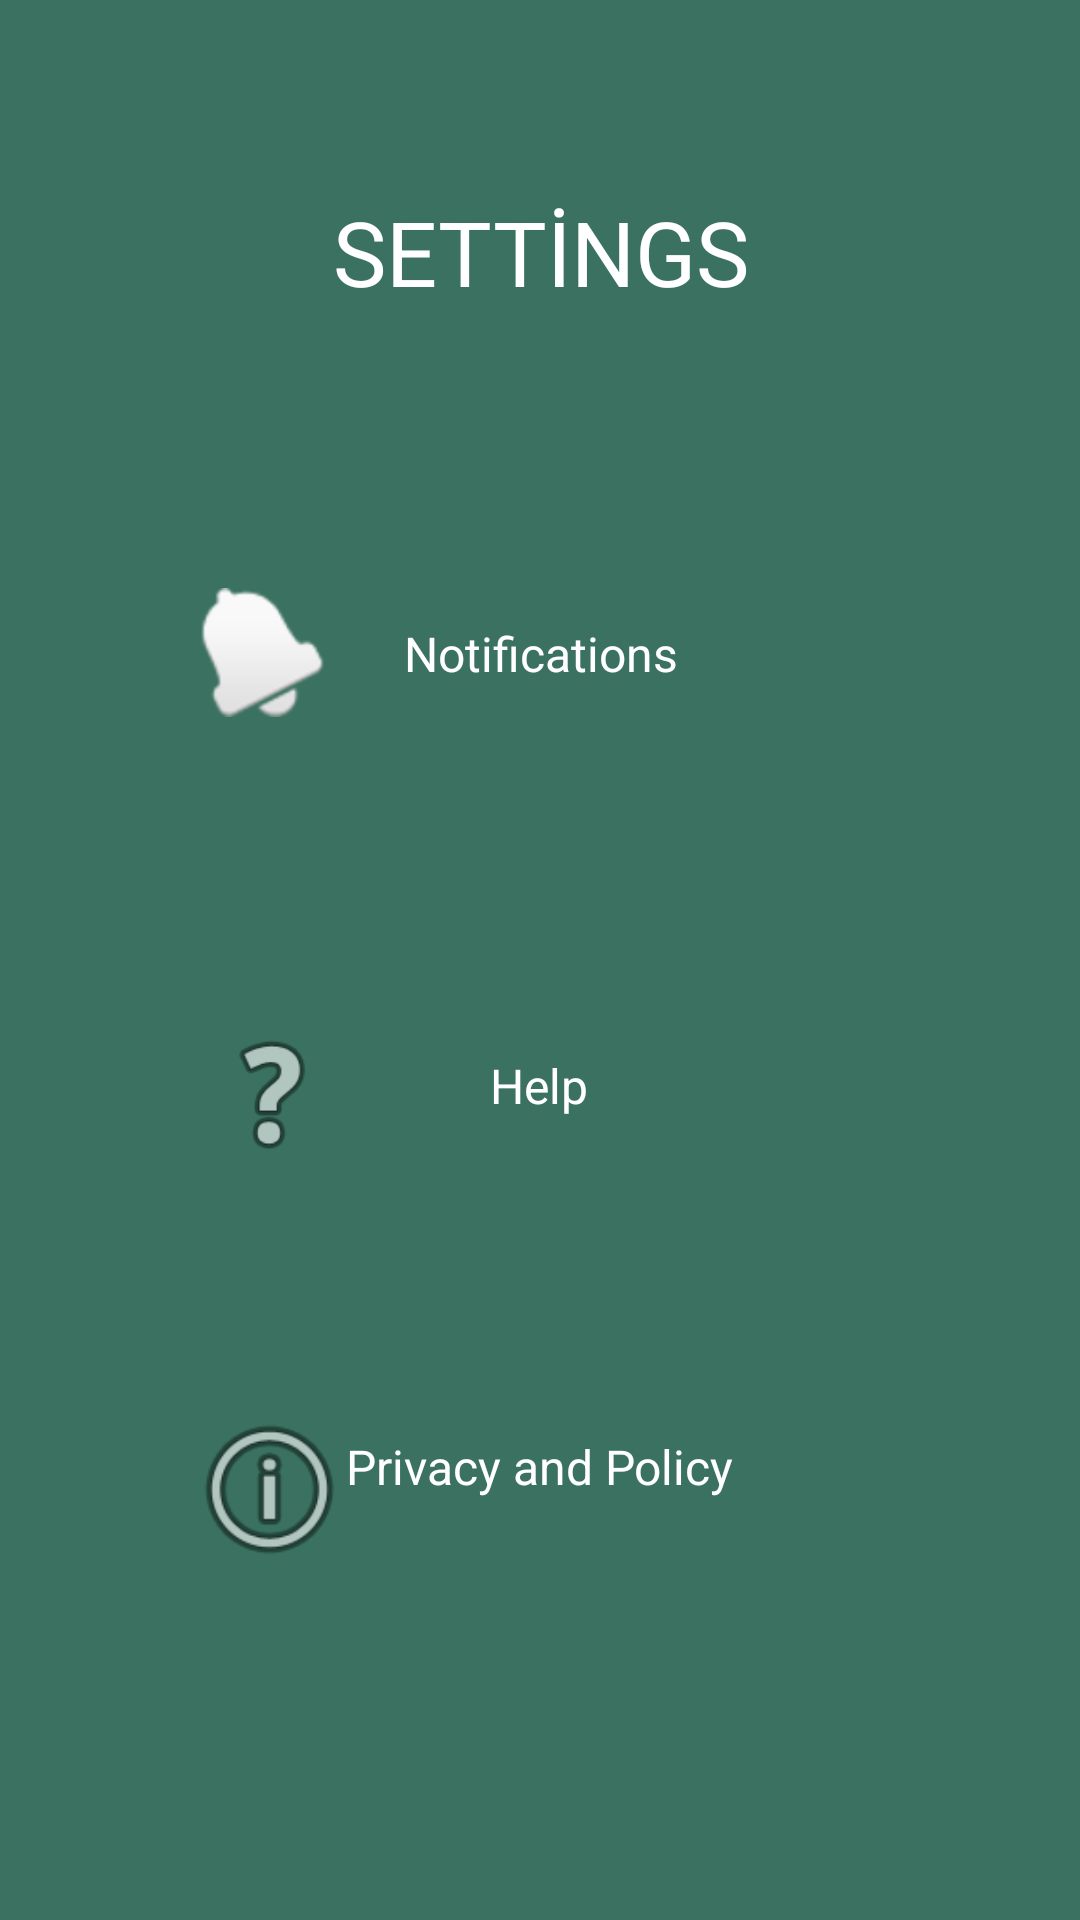

Where to tap for icons on this 1080x1920 app screen, as [x,y]:
info details: [290,1489]
popup reminder: [262,652]
